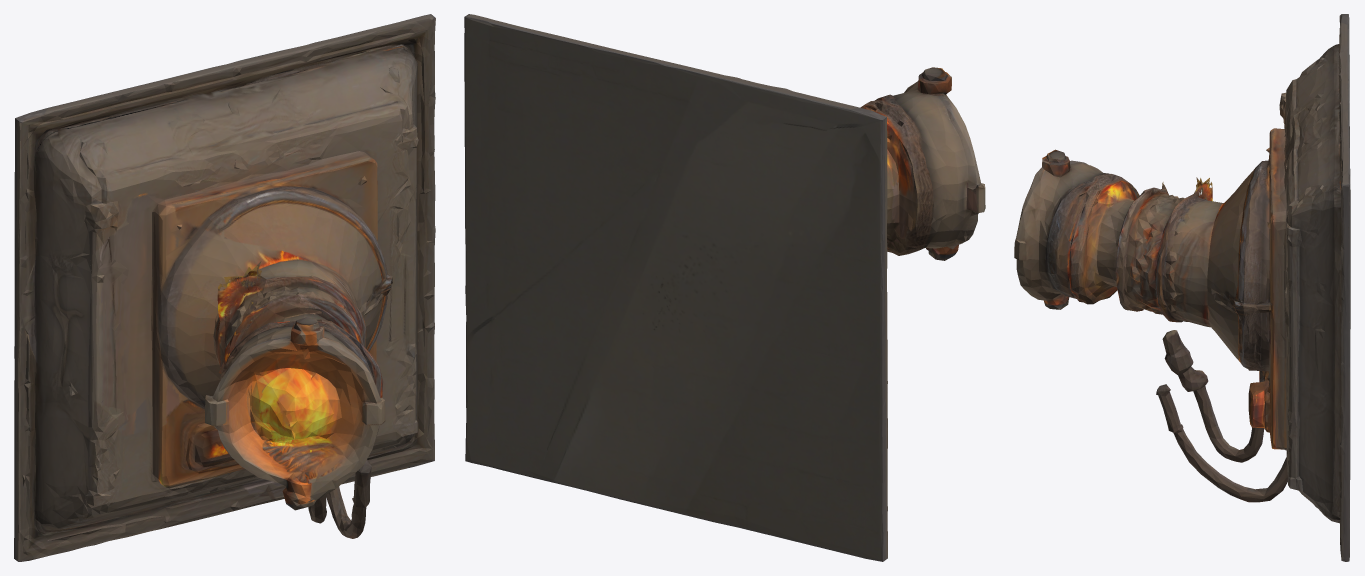
Rendered from generate_me_a_source__0520231711_texture.fbx.
3 renders of one model, left to right at view 1: azimuth 30°, elevation 25°; view 2: azimuth 150°, elevation 25°; view 3: azimuth 270°, elevation 25°, orthographic. The views are drawn at different scales.
Visible parts, largest first — view 1: temp; view 2: temp; view 3: temp.
Part boxes in pixels (x1=…): temp: x1=14, y1=14, x2=435, y2=561; temp: x1=464, y1=14, x2=985, y2=561; temp: x1=1014, y1=14, x2=1350, y2=561.
Size of the model in its own units: 160 by 163 by 131.
1 material, 1 textured.
